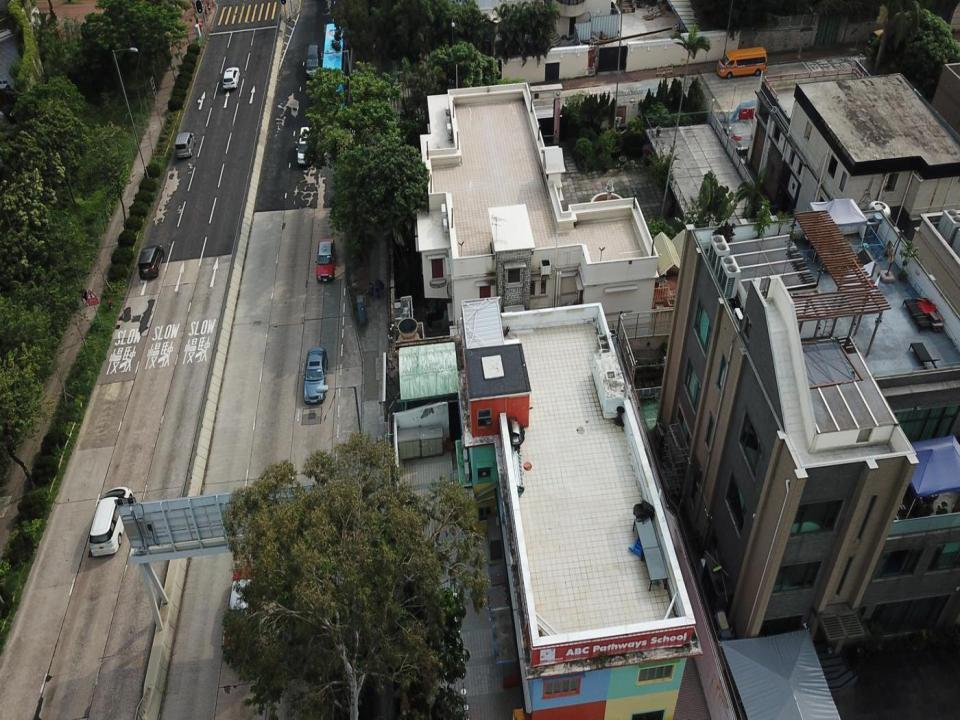bus: (322, 22, 346, 115)
car: (220, 568, 262, 655), (89, 486, 135, 557), (303, 348, 328, 402), (139, 245, 165, 282), (315, 237, 335, 283), (175, 132, 195, 158), (221, 66, 240, 90)
van: (716, 48, 767, 80), (293, 127, 315, 164), (306, 43, 319, 82)
